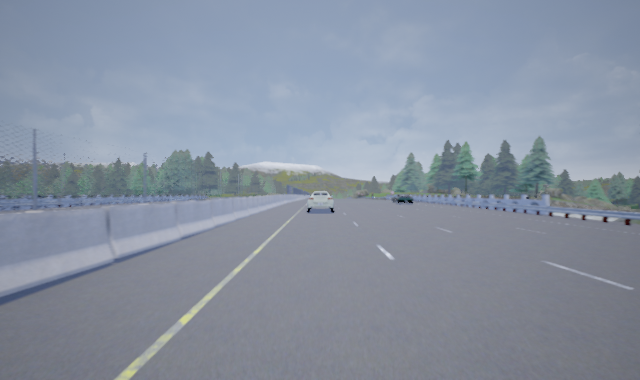vehicle: (306, 191, 334, 212), (392, 194, 413, 204)
